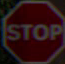Stop: (1, 12, 61, 49)
